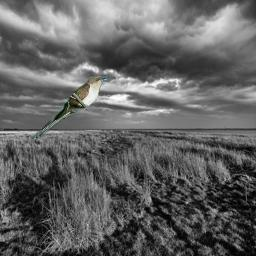Cuckoo: (30, 75, 110, 143)
